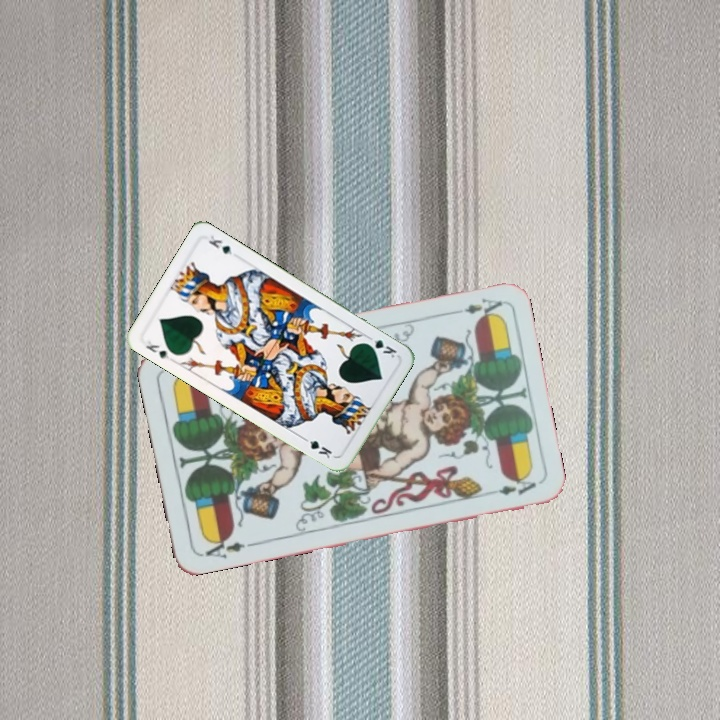EA: (198, 532, 248, 561), (460, 294, 505, 321)
GK: (361, 332, 399, 361), (141, 335, 173, 362)
